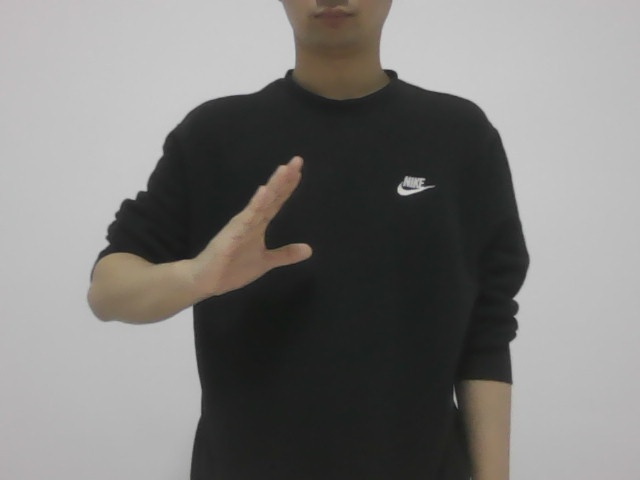morning: (176, 151, 362, 299)
